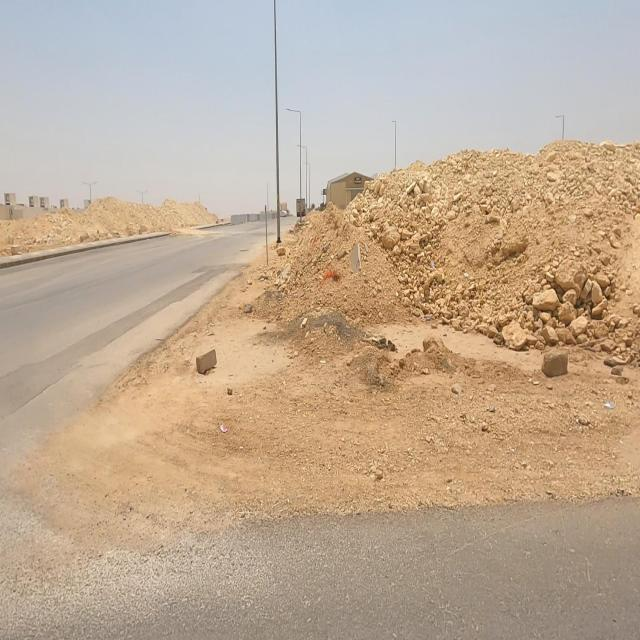debris: (410, 228, 460, 322), (582, 386, 626, 426)
